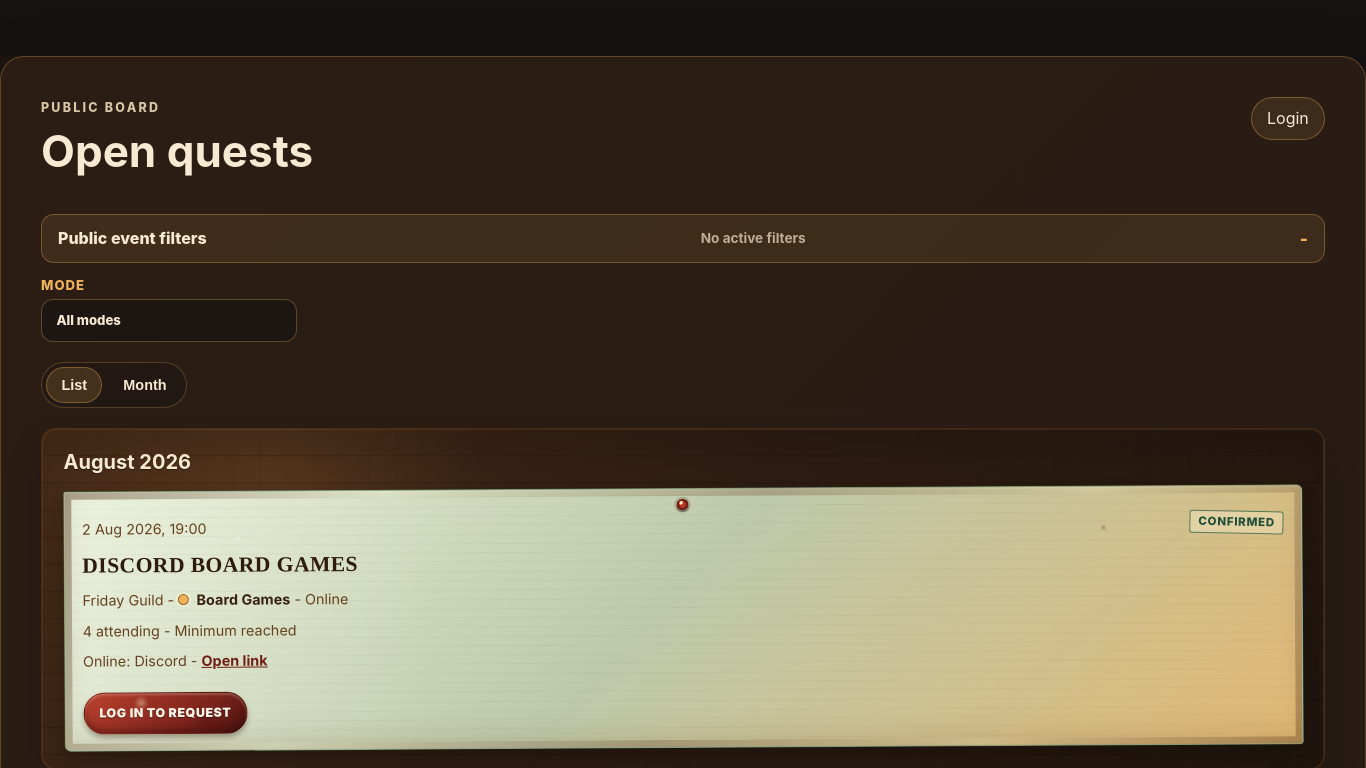
Test: PublicEventsPage › hides past events from the public list while keeping them on the public month calendar
The width and height of the screenshot is (1366, 768).
(page scrolled)
Expected: the text "Discord board games" is shown, [82,552,358,578]
Expected: the text "Open painting night" is not shown
Click the tab "Month".
click(145, 385)  # box [108,367,182,402]
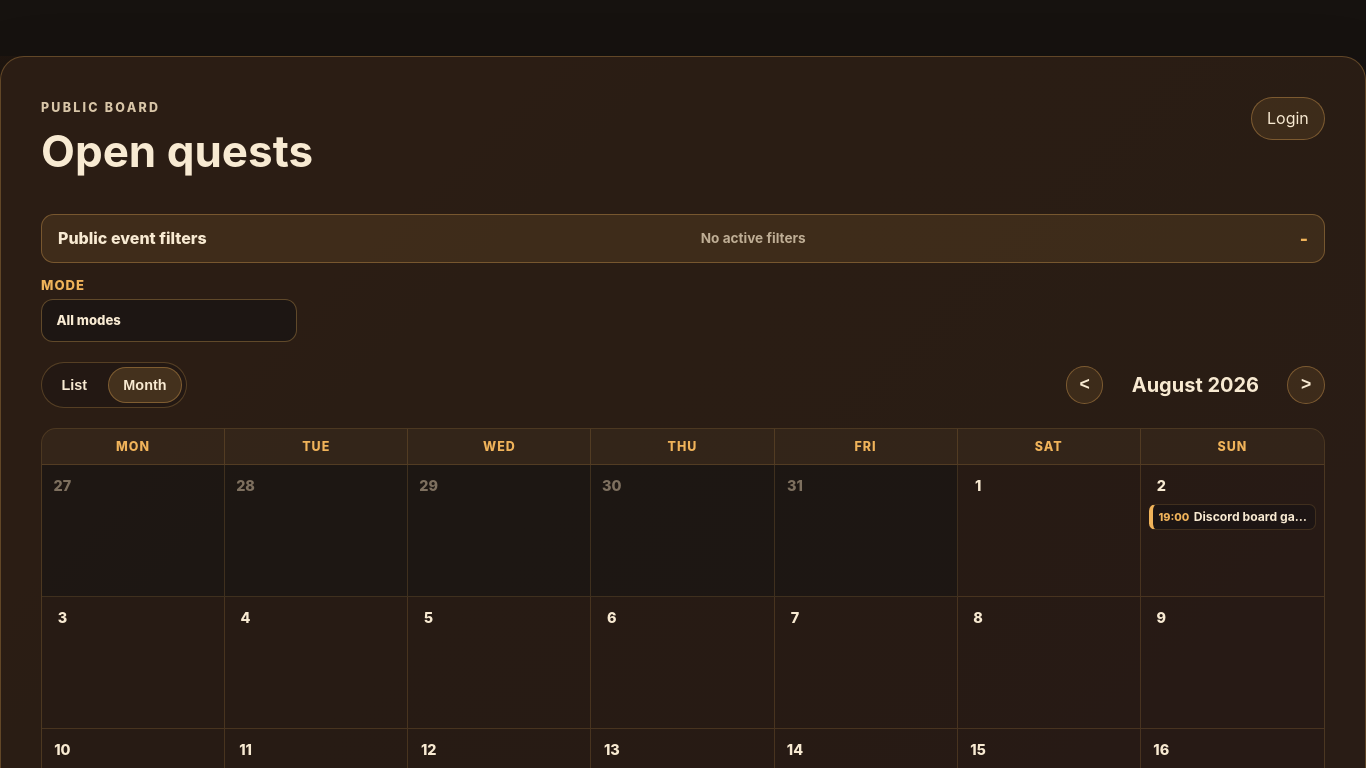
Click the button named "Previous month".
click(1085, 385)  # box [1066,366,1103,404]
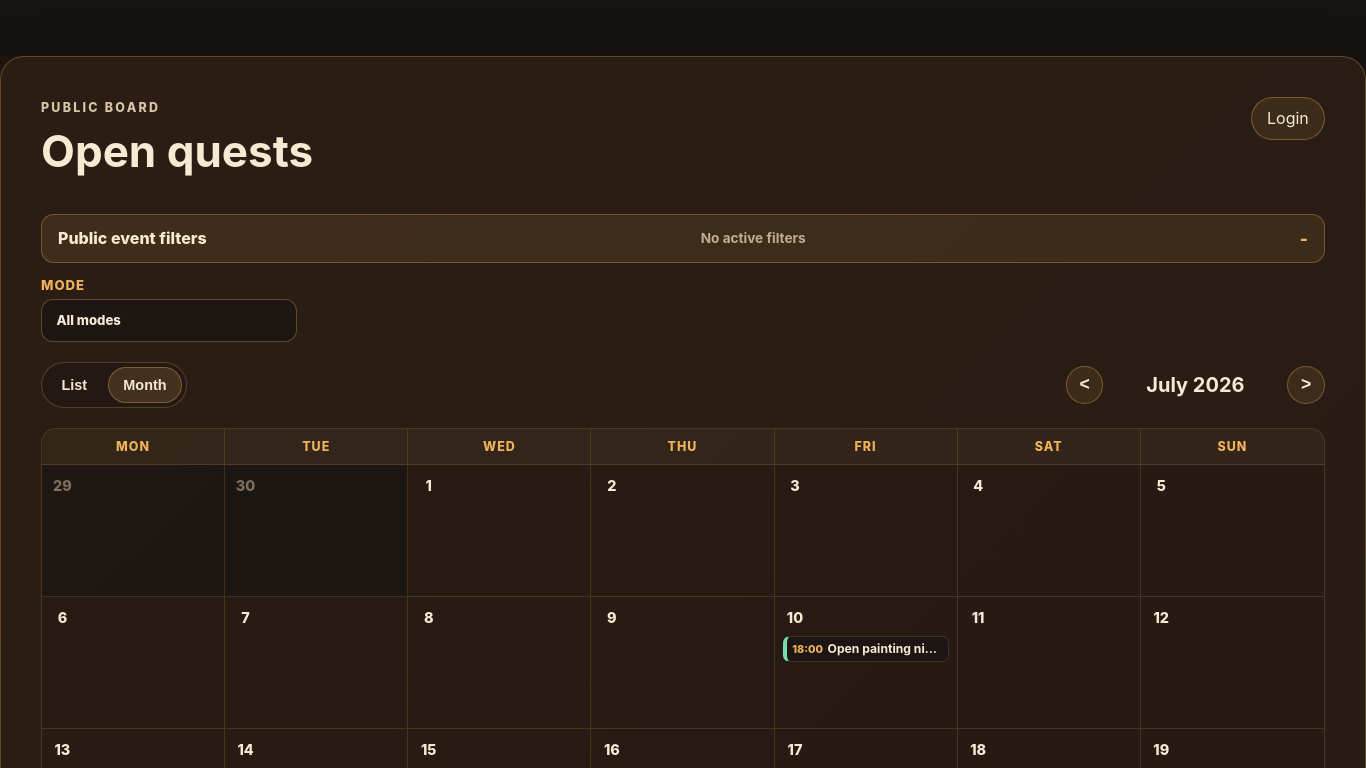
Now the element "18:00 Open painting night" is shown, box [783,636,949,662]
